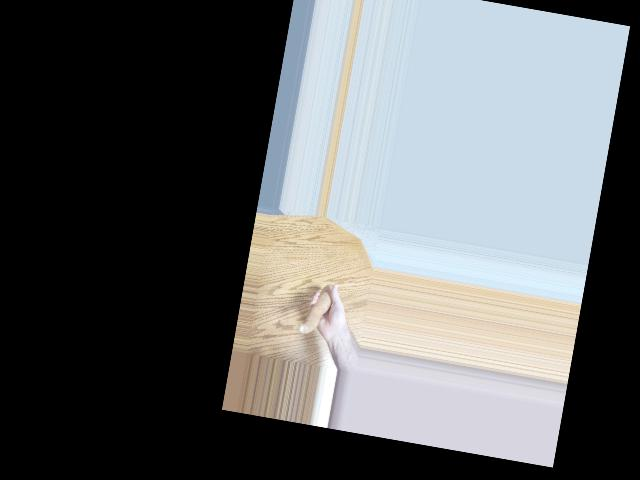sweet_potato: (299, 281, 336, 340)
